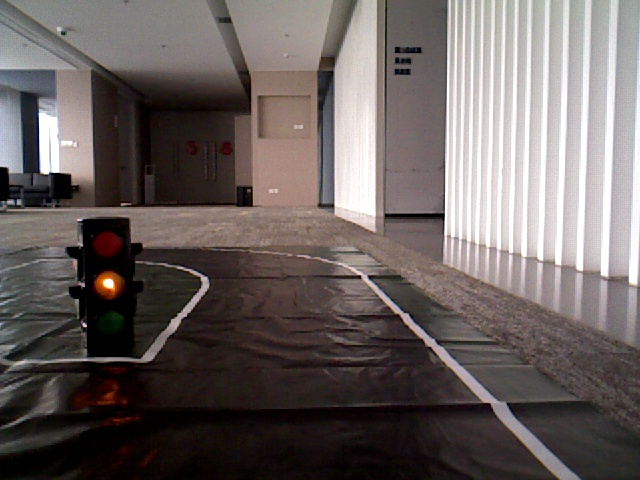yellow: (84, 222, 133, 336)
